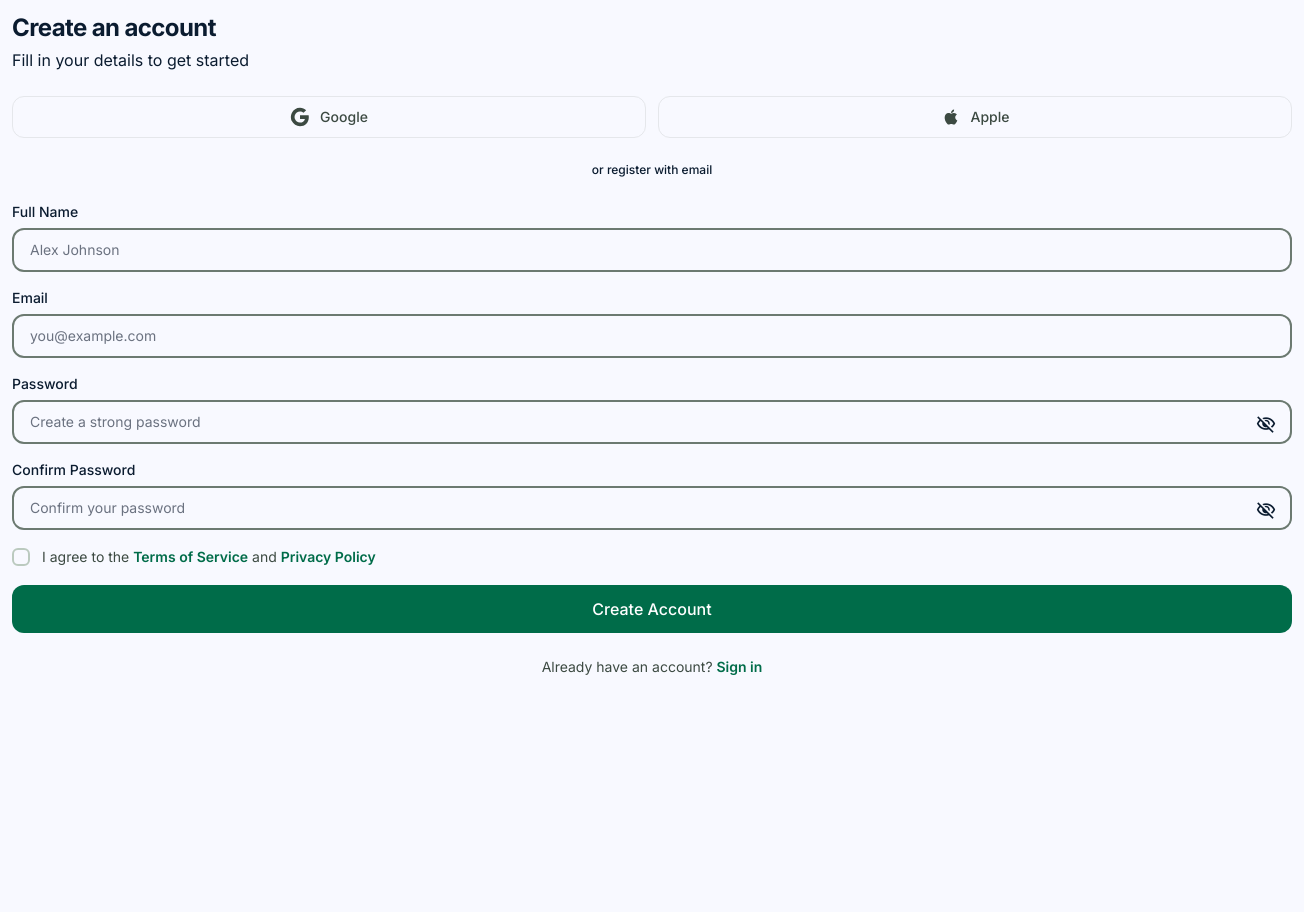
Scenario: RegisterPage › shows terms error when terms not agreed
In the field labelled "Full Name": (652,250) [12, 228, 1292, 272], type "Test User"
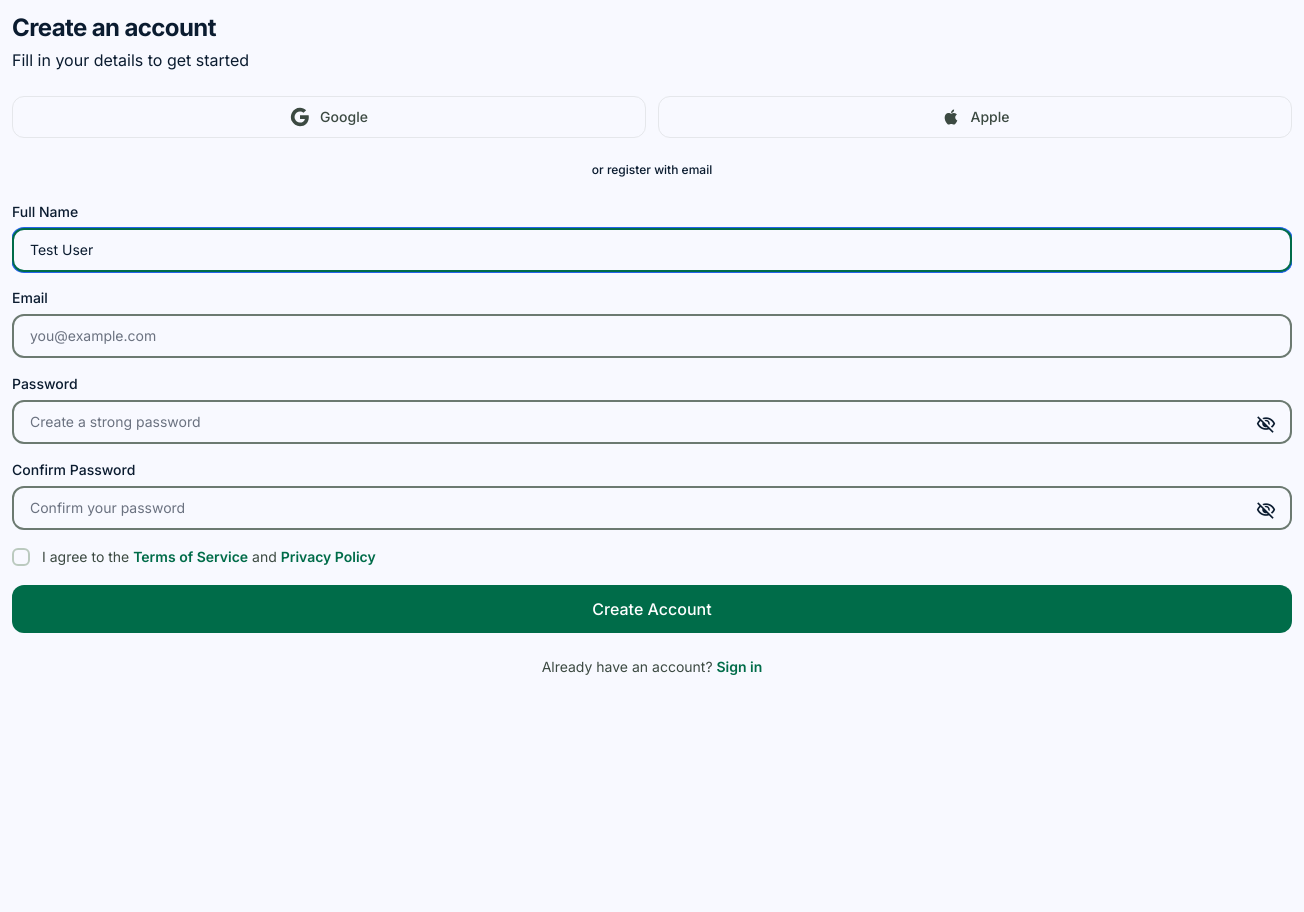
In the field labelled "Email": (652,336) [12, 314, 1292, 358], type "test@example.com"
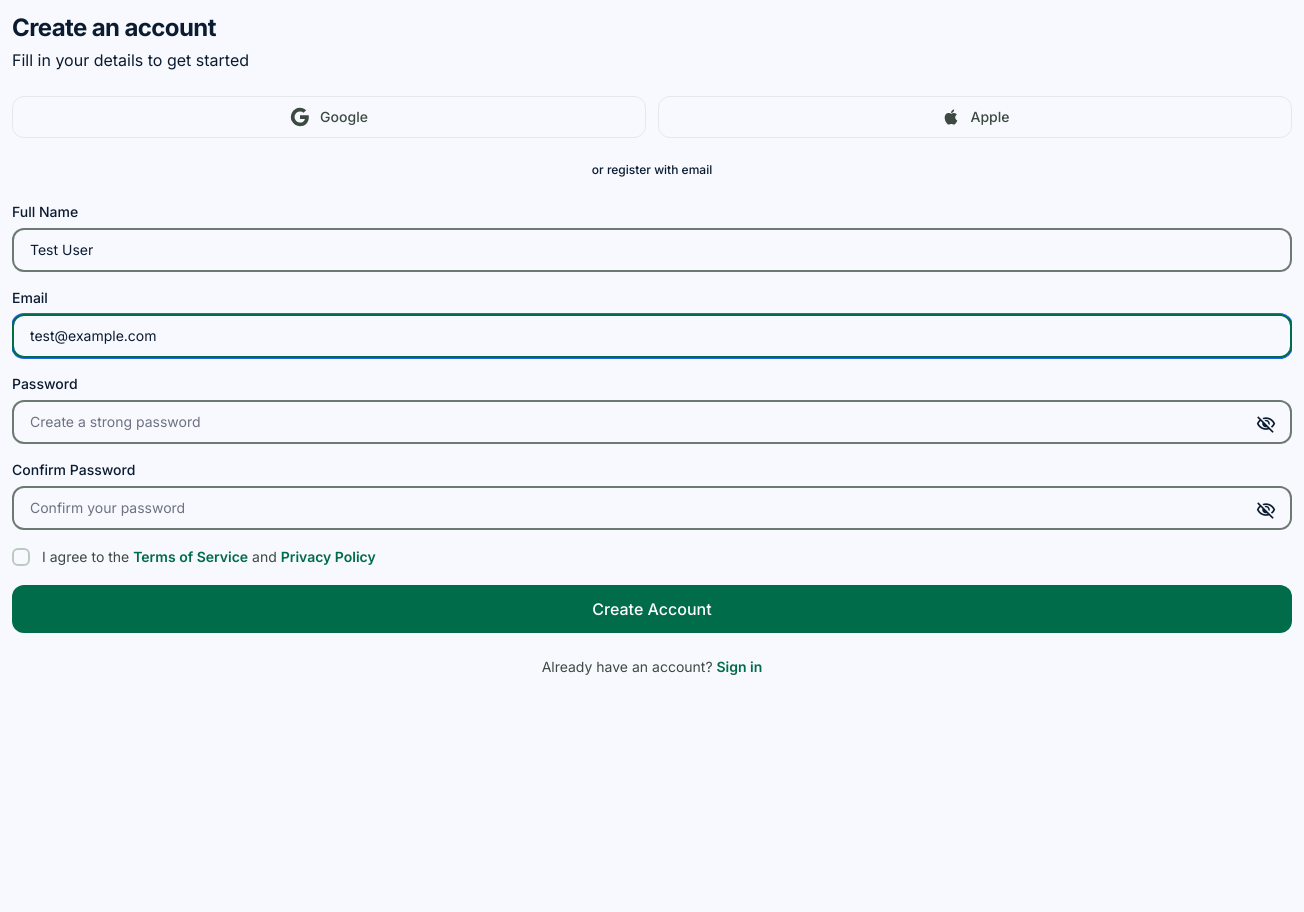
In the password field labelled "Password": (652,422) [12, 400, 1292, 444], type "password123"
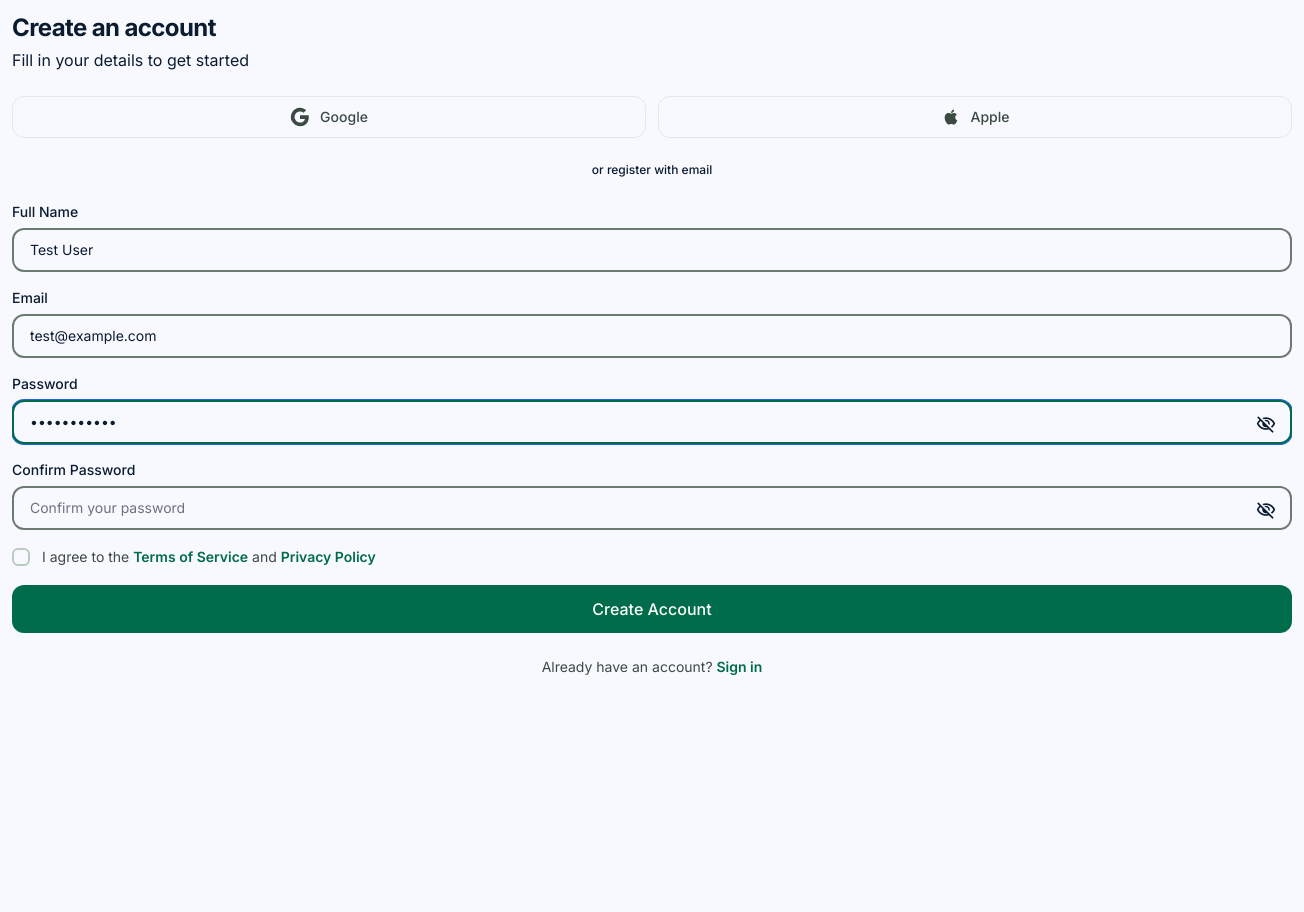
In the password field labelled "Confirm Password": (652,508) [12, 486, 1292, 530], type "password123"
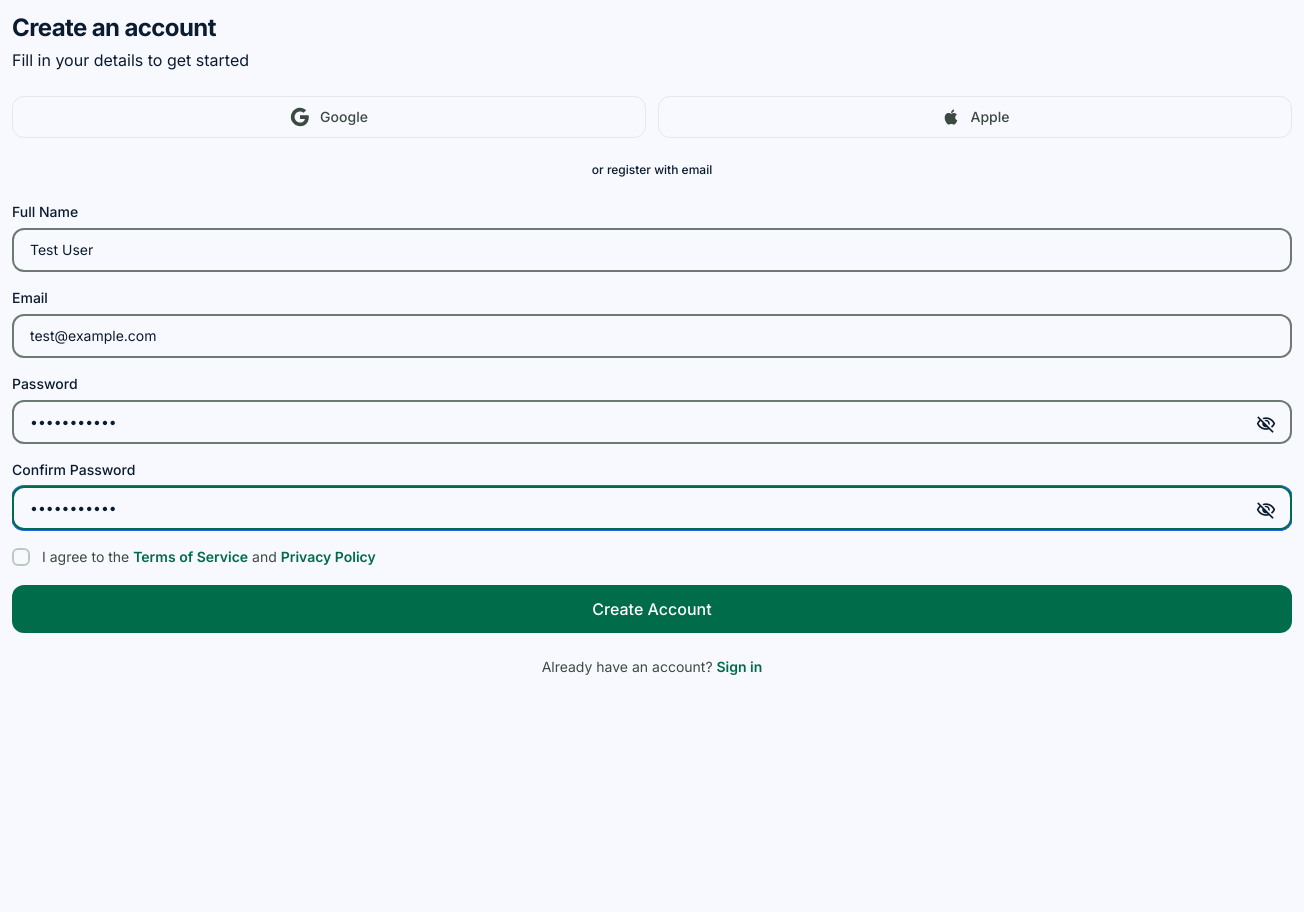
Click the button "Create Account": (652,609) [12, 585, 1292, 633]
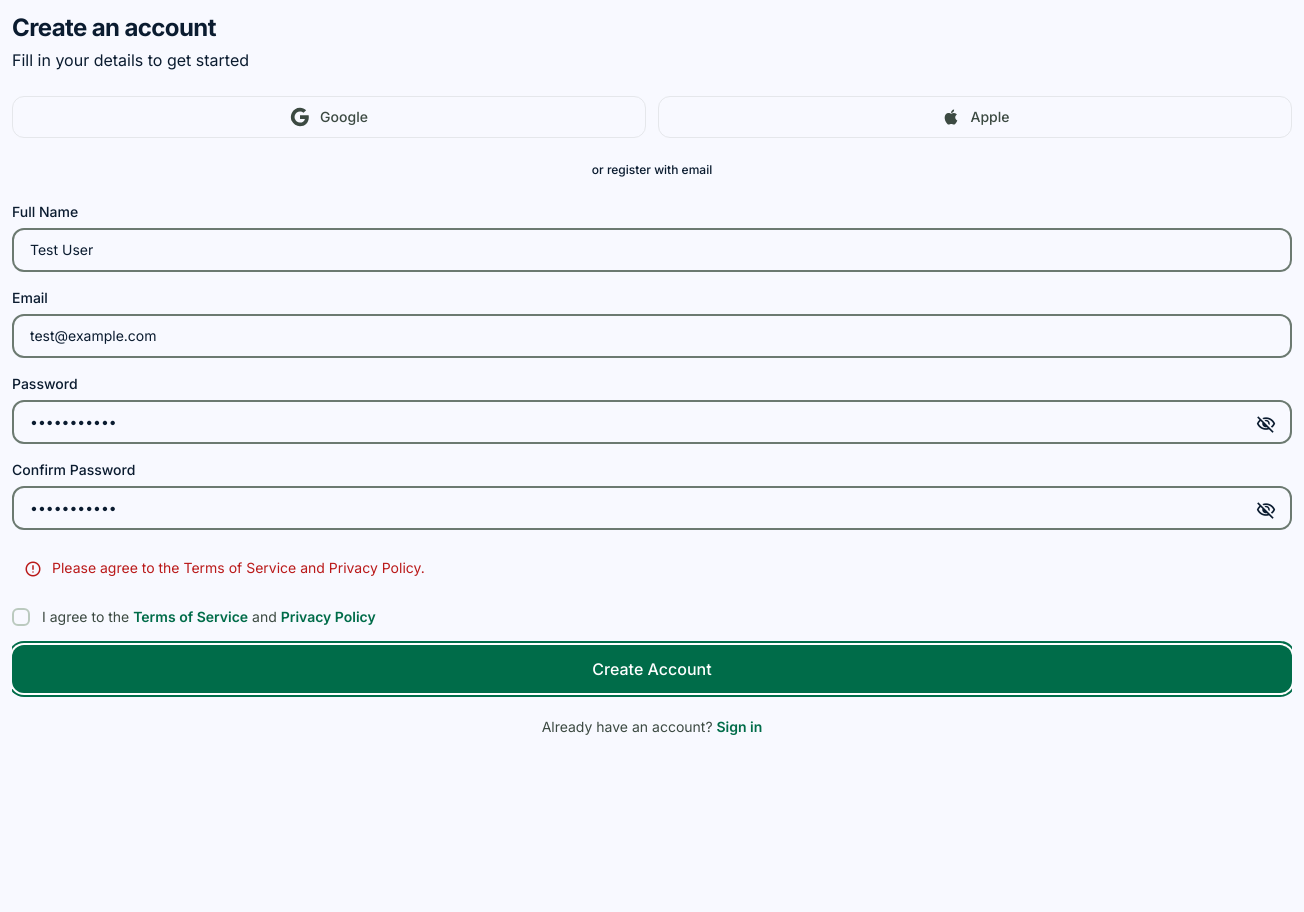
Now the text "Please agree to the Terms of Service and Privacy Policy." is shown, box [52, 558, 425, 578]
